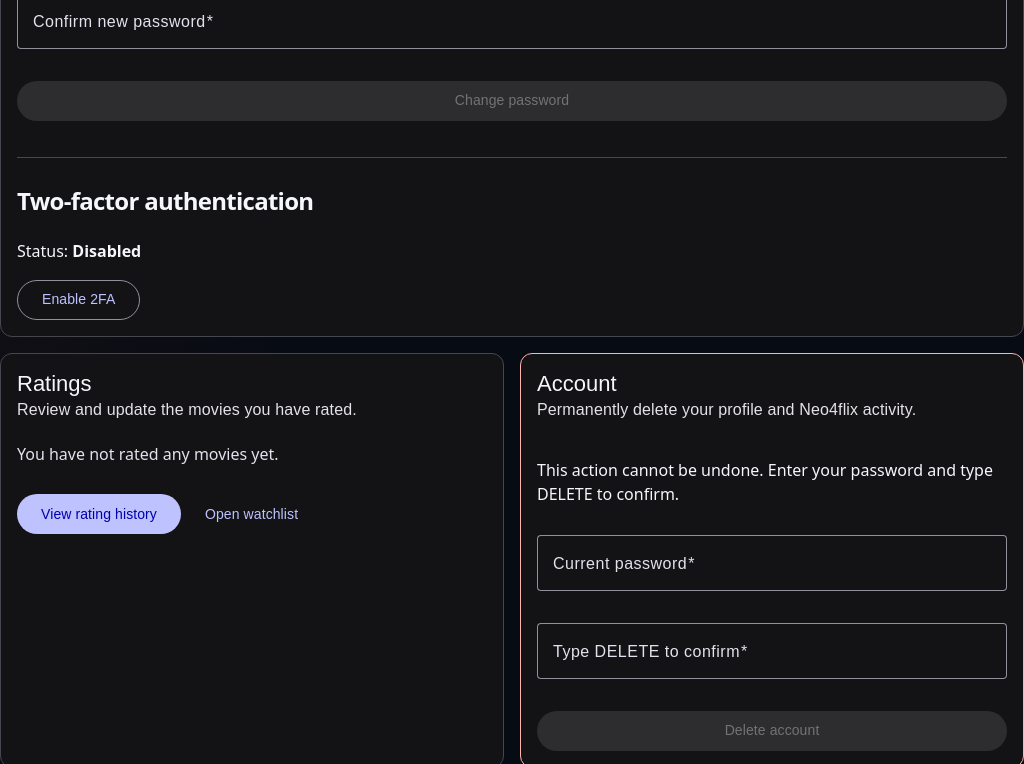
Test: ProfileComponent › renders deletion API failures in an accessible account error region
The image size is (1024, 764).
(page scrolled)
In the password field with test id "delete-password": (772, 563) [553,551,991,575], type "Password1!"
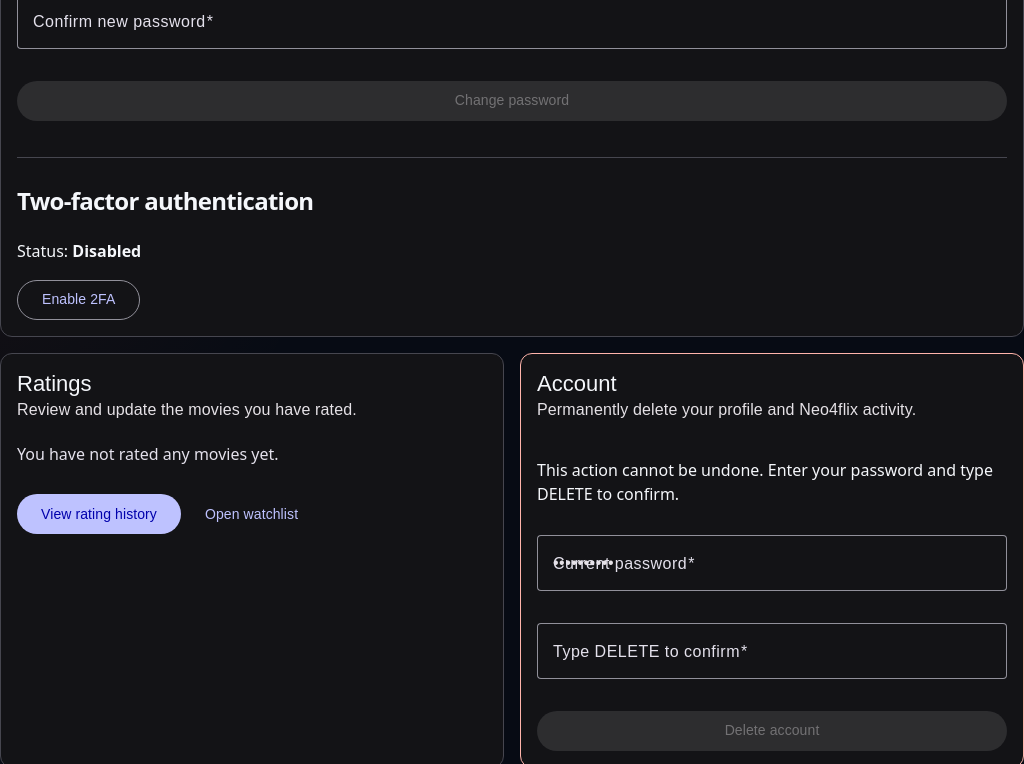
In the field with test id "delete-confirmation": (772, 651) [553,639,991,663], type "DELETE"
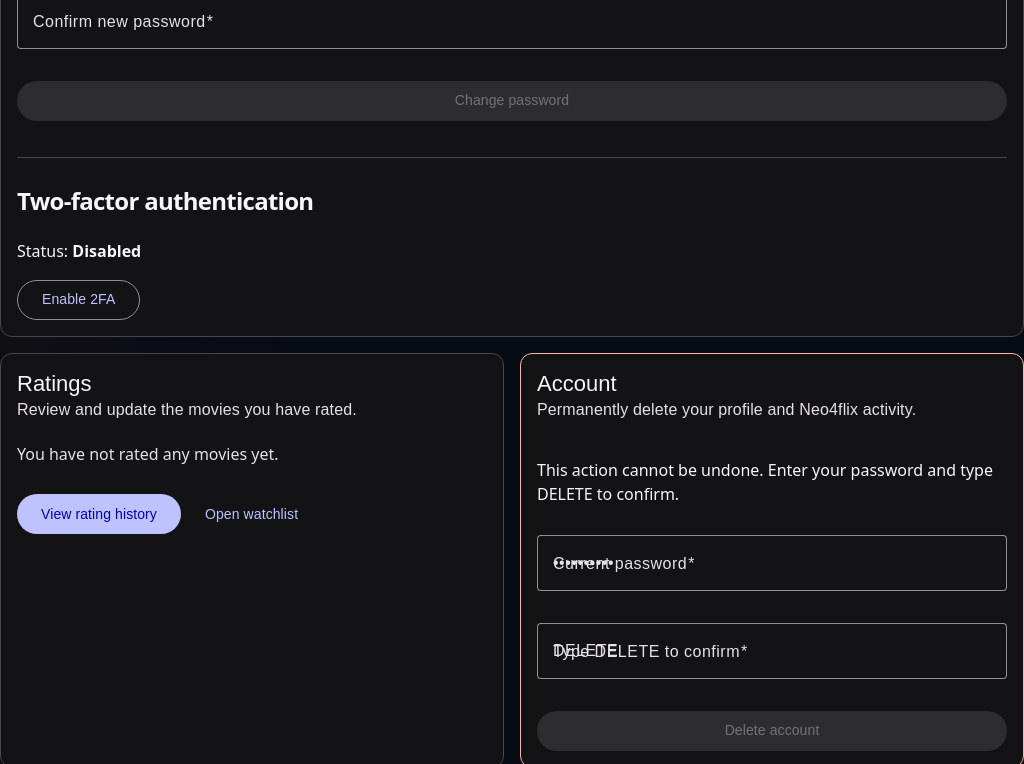
Submit the form with test id "delete-account-form", box [537,535,1007,751]
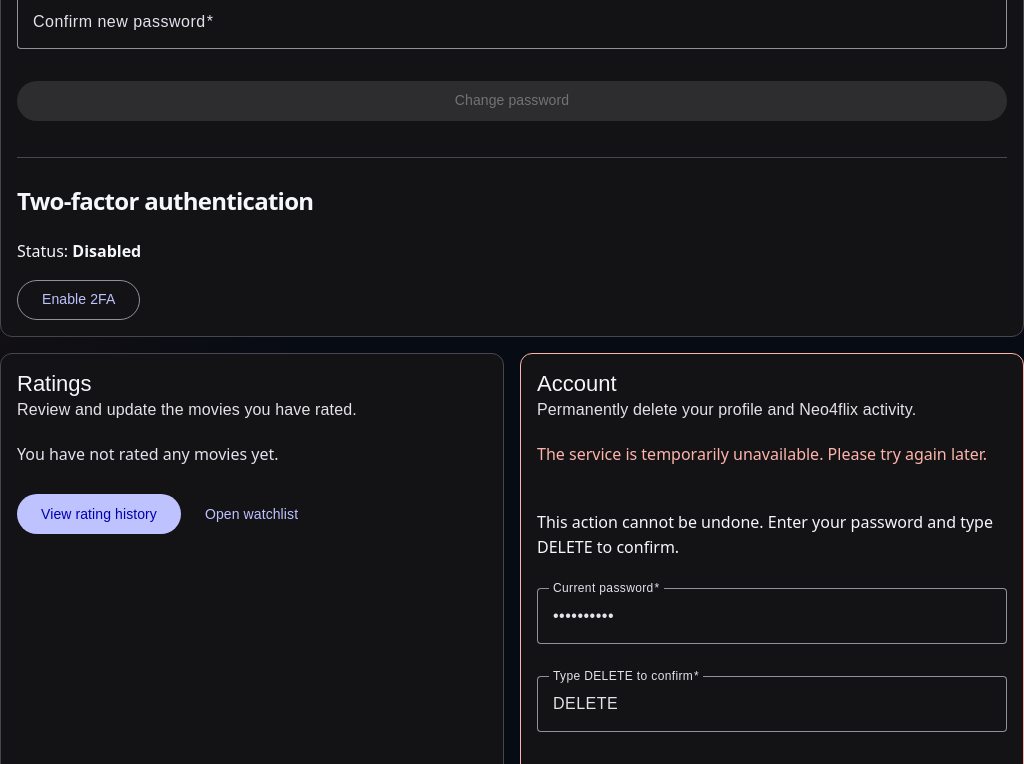
Expected: the message with class "error" shows "The service is temporarily unavailable.", [537,443,987,465]
